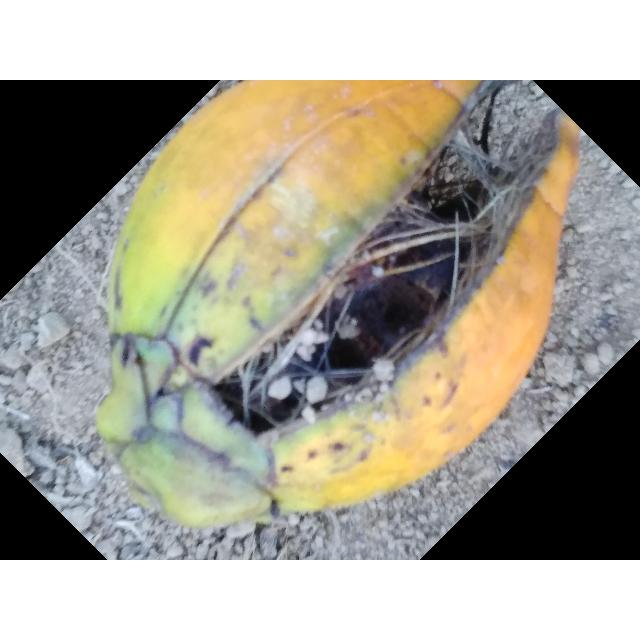damaged: (96, 80, 579, 527)
